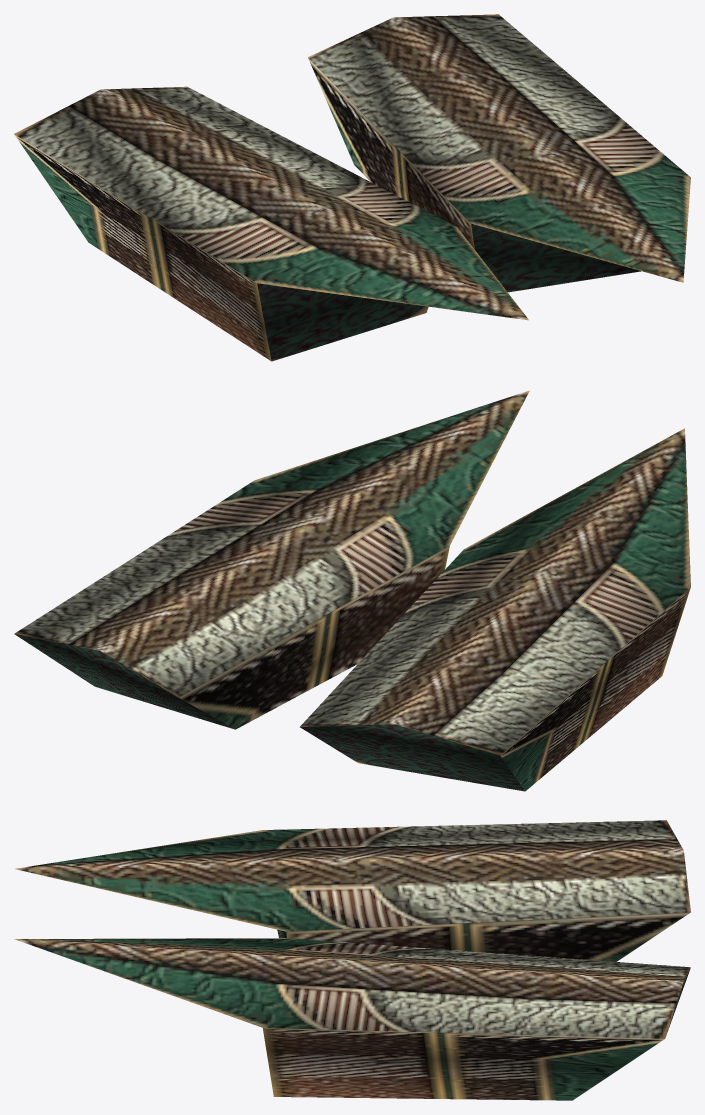
Rendered from ArmPads6.glb.
3 renders of one model, top to bottom at view 1: azimuth 30°, elevation 25°; view 2: azimuth 150°, elevation 25°; view 3: azimuth 270°, elevation 25°, orthographic. The views are drawn at different scales.
Visible parts, largest first — view 1: ArmPads6; view 2: ArmPads6; view 3: ArmPads6.
Part boxes in pixels (x1=…): ArmPads6: x1=14, y1=14, x2=690, y2=361; ArmPads6: x1=14, y1=390, x2=690, y2=791; ArmPads6: x1=14, y1=820, x2=690, y2=1100.
Bounding box in the file's own units: 14.72 × 3.35 × 19.1.
1 material, 1 textured.
